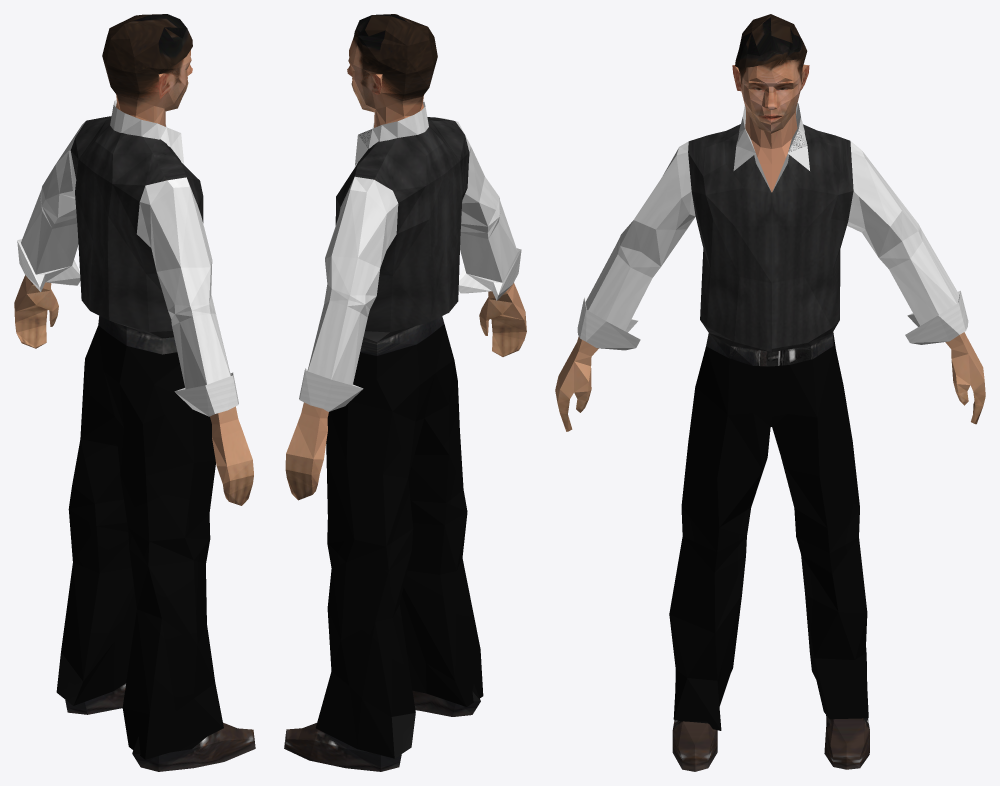
The model's file is swmyri.obj.
3 views of the same model, side by side, from view 1: azimuth 30°, elevation 25°; view 2: azimuth 150°, elevation 25°; view 3: azimuth 270°, elevation 25° (orthographic).
Parts seen in each view (by area): view 1: _Pelvis; view 2: _Pelvis; view 3: _Pelvis.
Part boxes in pixels (left/top/right/bottom): _Pelvis: left=14, top=14, right=255, bottom=771; _Pelvis: left=284, top=14, right=526, bottom=771; _Pelvis: left=555, top=14, right=985, bottom=771.
Size of the model in its own units: 0.3434 by 1.86 by 1.01.
Materials: 1 (1 with a texture image).
